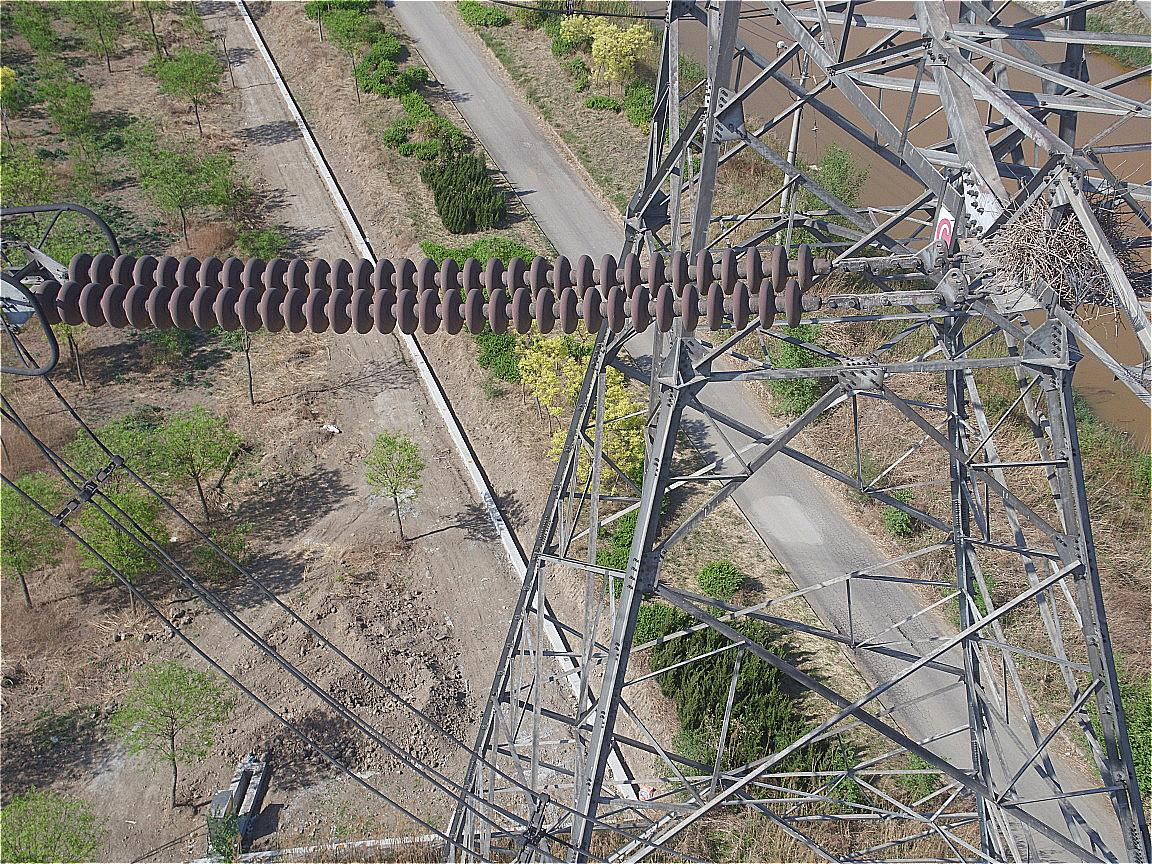insultor1: (34, 242, 811, 329)
